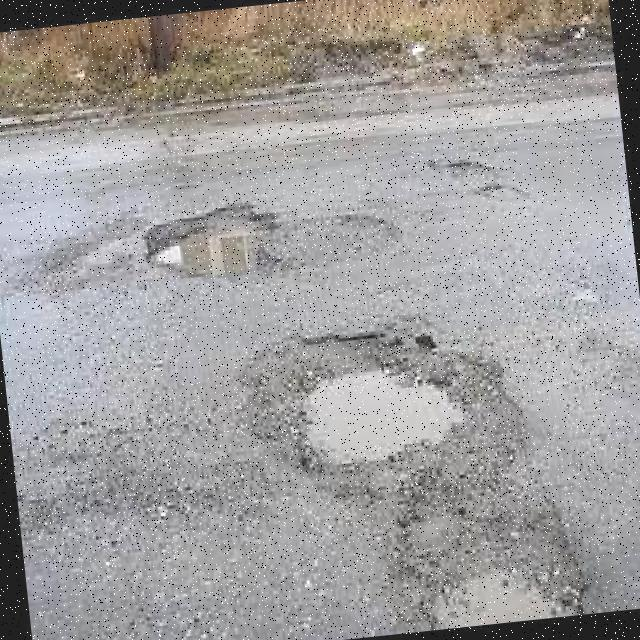pothole: (301, 374, 461, 468), (424, 557, 561, 630), (143, 208, 263, 279)
